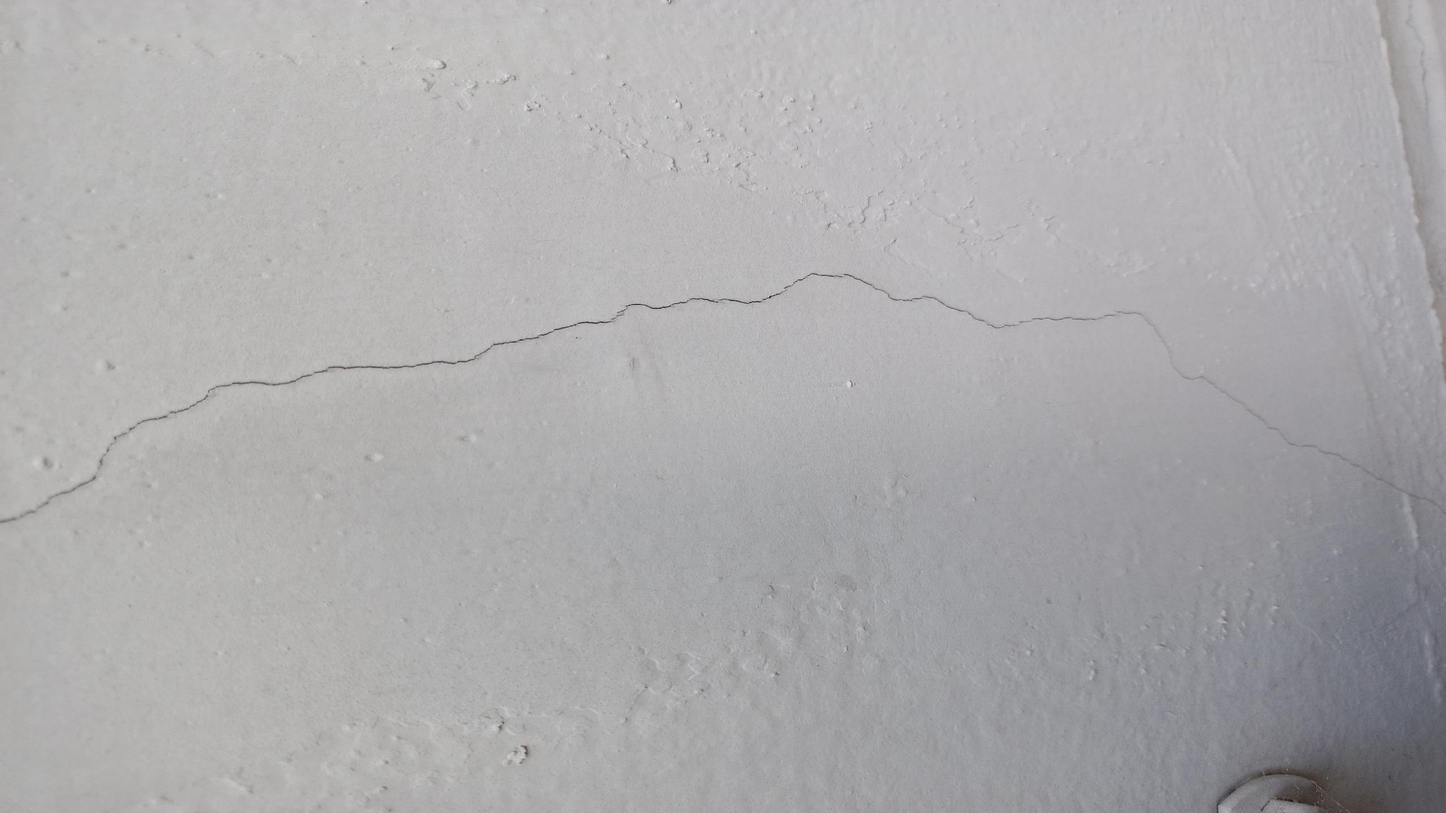crack: (1, 273, 1445, 525)
